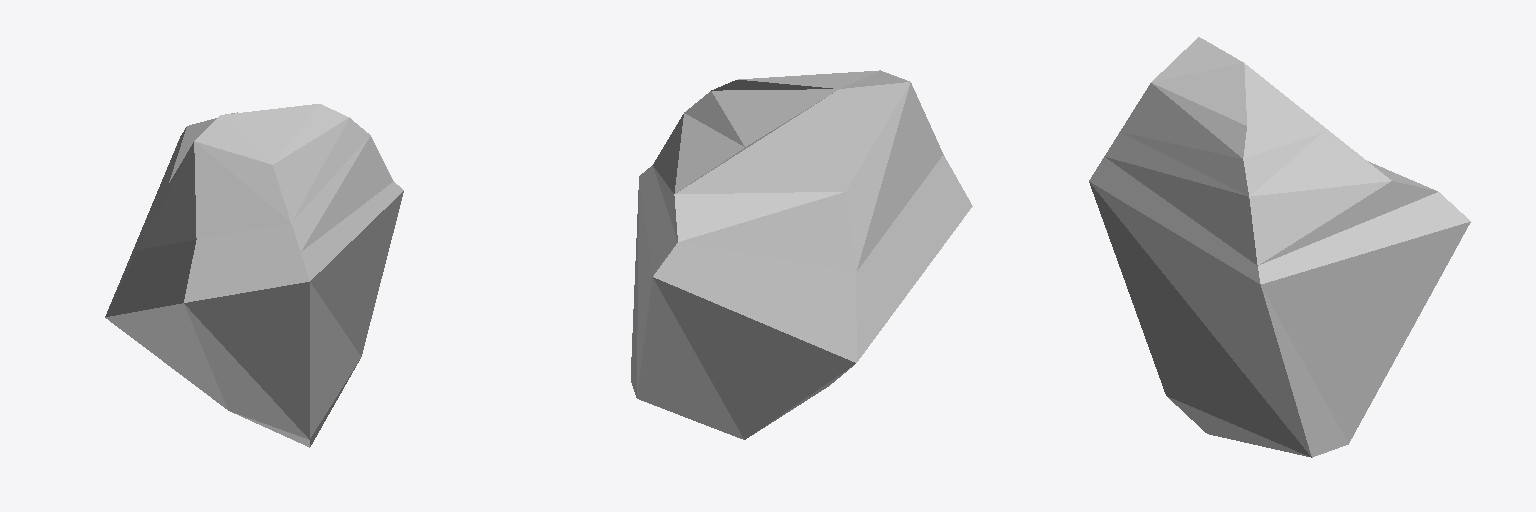
The model's file is stone.obj.
The picture shows the model from 3 angles: view 1: azimuth 30°, elevation 25°; view 2: azimuth 150°, elevation 25°; view 3: azimuth 270°, elevation 25°; orthographic projection.
Parts seen in each view (by area): view 1: Icosphere; view 2: Icosphere; view 3: Icosphere.
Part boxes in pixels (left/top/right/bottom): Icosphere: left=105, top=104, right=403, bottom=447; Icosphere: left=631, top=70, right=972, bottom=439; Icosphere: left=1089, top=37, right=1470, bottom=457.
Bounding box in the file's own units: 12.44 × 14.54 × 14.87.